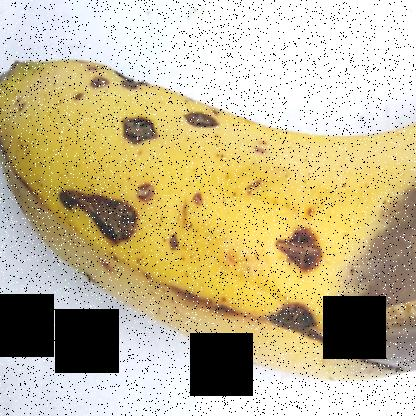rotten: (331, 127, 415, 383), (54, 166, 149, 253), (271, 210, 334, 277), (83, 46, 155, 96), (264, 290, 324, 339), (115, 100, 164, 150), (178, 96, 235, 130)
